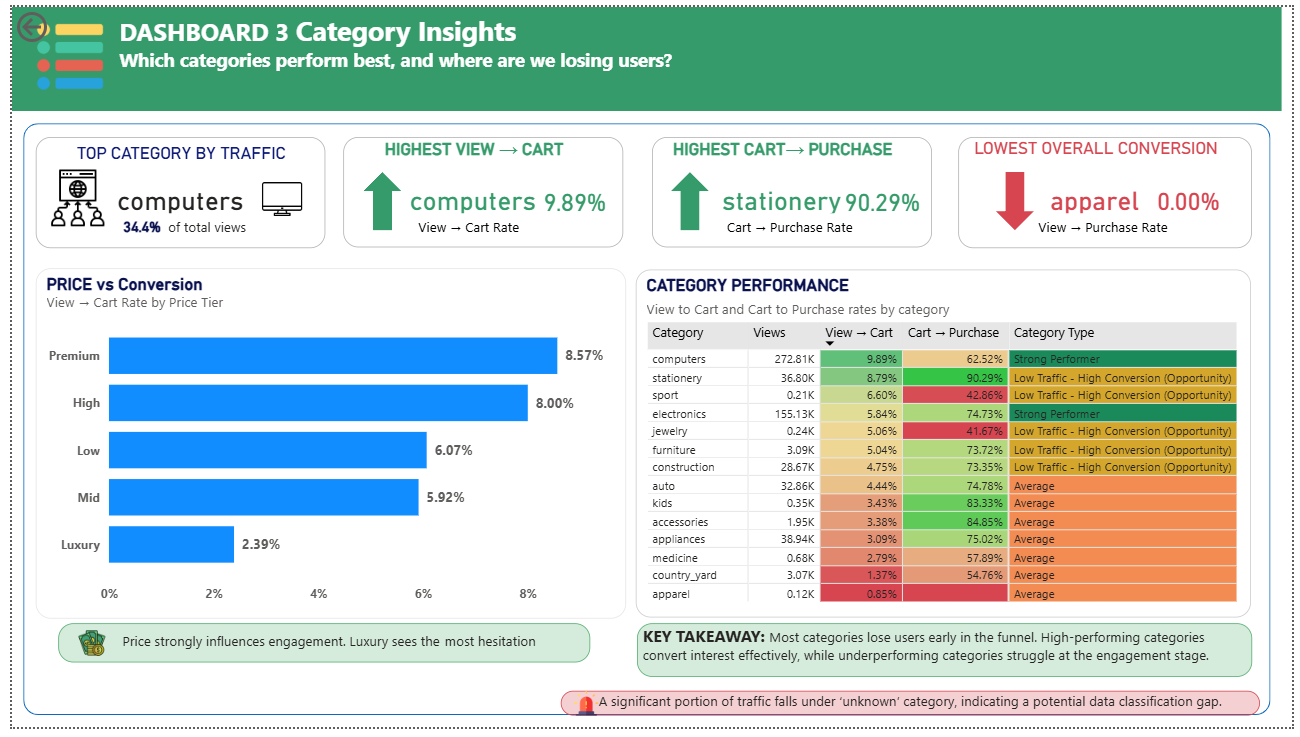

The dashboard page shown, as its layout file describes it:
{"tool":"powerbi","page":{"name":"Dashboard 3","canvas":[1280,720],"ordinal":2},"visuals":[{"type":"textbox","box":[0,0,1269.3,104],"z":0},{"type":"image","box":[10.7,16,93.3,66.7],"z":1000},{"type":"shape","box":[11,116.2,1247.3,591.9],"z":2000},{"type":"card","title":"TOP CATEGORY BY TRAFFIC","fields":{"Values":["dim_customer.Top Category by Traffic"]},"box":[23.7,129.4,289.4,111.3],"z":3000},{"type":"image","box":[34.8,162.8,61.2,57],"z":4000},{"type":"card","fields":{"Values":["dim_customer.Top Category View Share %"]},"box":[104.3,205.7,52.9,29.3],"z":5000},{"type":"textbox","box":[150.7,205.7,104.3,29.3],"z":6000},{"type":"card","title":"HIGHEST CART→ PURCHASE","fields":{"Values":["dim_customer.Top Category by c/p"]},"box":[640,130,280,110],"z":7000},{"type":"card","title":"LOWEST OVERALL CONVERSION","fields":{"Values":["dim_customer.Top Category by cv/p"]},"box":[946.1,129.4,293.6,111.3],"z":8000},{"type":"card","title":"HIGHEST VIEW → CART","fields":{"Values":["dim_customer.Top Category by Traffic"]},"box":[331.7,130,280,110],"z":9000},{"type":"textbox","box":[710,206.4,188.2,30],"z":10000},{"type":"card","fields":{"Values":["dim_customer.Cart_to_Purchase"]},"box":[800,152,120,84],"z":11000},{"type":"image","box":[243.3,171.7,53.3,41.7],"z":12000},{"type":"shape","box":[658.3,165,38.3,58.3],"z":13000},{"type":"card","fields":{"Values":["dim_customer.View_to_Cart"]},"box":[492,152,120,84],"z":14000},{"type":"textbox","box":[401.8,206.4,140.9,30],"z":15000},{"type":"shape","box":[351.7,165,38.3,58.3],"z":16000},{"type":"shape","box":[983.3,165,38.3,58.3],"z":17000},{"type":"textbox","box":[1021.7,206.7,188.3,30],"z":18000},{"type":"card","fields":{"Values":["dim_customer.View to Purchase Rate1"]},"box":[1106.7,151.7,120,85],"z":19000},{"type":"tableEx","title":"CATEGORY PERFORMANCE","fields":{"Values":["fact_events.MAIN_CATEGORY","dim_customer.TotalViews","dim_customer.View_to_Cart","dim_customer.Cart_to_Purchase","dim_customer.Category Type"]},"box":[624.1,262.2,615.5,348.4],"z":20000},{"type":"clusteredBarChart","title":"PRICE vs Conversion","fields":{"Y":["dim_customer.View_to_Cart"],"Category":["fact_events.Price Bucket"]},"box":[23.8,261.2,590,350],"z":21000},{"type":"textbox","box":[624.9,616.3,615.1,53.8],"z":22000},{"type":"image","box":[46.5,622.4,67.3,26.9],"z":23000},{"type":"actionButton","box":[0,0,100,40],"z":24000},{"type":"textbox","box":[46.5,616.3,531.9,39.1],"z":25000},{"type":"textbox","box":[549.1,683.6,699.5,24.5],"z":26000},{"type":"image","box":[538,683.6,73.4,24.5],"z":27000}]}

Visuals, with their boxes in screenshot pixels (x1, y1, x2, y2), scaled from the page's 1280x720 canvas onto the 1300x737 screenshot:
textbox: l=0, t=0, r=1289, b=106
image: l=11, t=16, r=106, b=85
shape: l=11, t=119, r=1278, b=725
"TOP CATEGORY BY TRAFFIC" card: l=24, t=132, r=318, b=246
image: l=35, t=167, r=98, b=225
card - dim_customer.Top Category View Share %: l=106, t=211, r=160, b=241
textbox: l=153, t=211, r=259, b=241
"HIGHEST CART→ PURCHASE" card: l=650, t=133, r=934, b=246
"LOWEST OVERALL CONVERSION" card: l=961, t=132, r=1259, b=246
"HIGHEST VIEW → CART" card: l=337, t=133, r=621, b=246
textbox: l=721, t=211, r=912, b=242
card - dim_customer.Cart_to_Purchase: l=812, t=156, r=934, b=242
image: l=247, t=176, r=301, b=218
shape: l=669, t=169, r=707, b=229
card - dim_customer.View_to_Cart: l=500, t=156, r=622, b=242
textbox: l=408, t=211, r=551, b=242
shape: l=357, t=169, r=396, b=229
shape: l=999, t=169, r=1038, b=229
textbox: l=1038, t=212, r=1229, b=242
card - dim_customer.View to Purchase Rate1: l=1124, t=155, r=1246, b=242
"CATEGORY PERFORMANCE" tableEx: l=634, t=268, r=1259, b=625
"PRICE vs Conversion" clusteredBarChart: l=24, t=267, r=623, b=626
textbox: l=635, t=631, r=1259, b=686
image: l=47, t=637, r=116, b=665
actionButton: l=0, t=0, r=102, b=41
textbox: l=47, t=631, r=587, b=671
textbox: l=558, t=700, r=1268, b=725
image: l=546, t=700, r=621, b=725
